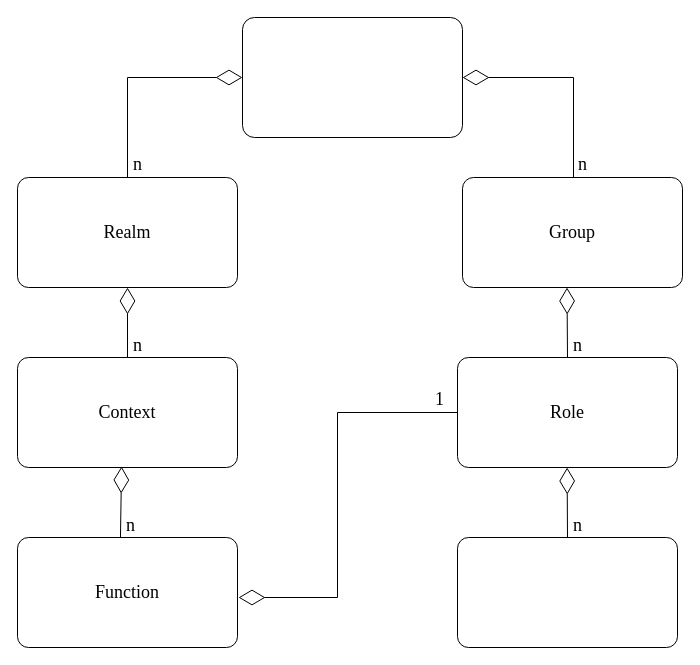
Some shapes in this 700 by 665 pixel diagram are drawn without their labels. The box of each missing label's shape, as (x1, y1, x2, y2) in pixels:
Access Control Manager: (242, 16, 462, 138)
User: (456, 536, 678, 648)
